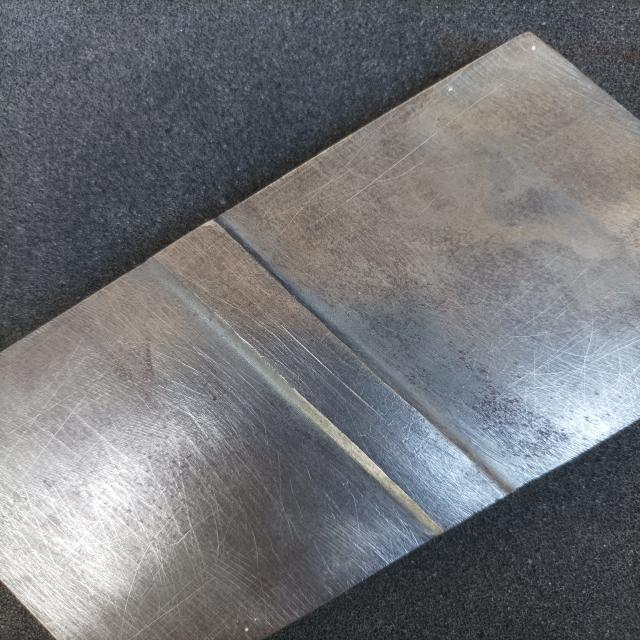Crack: (279, 323, 389, 422)
